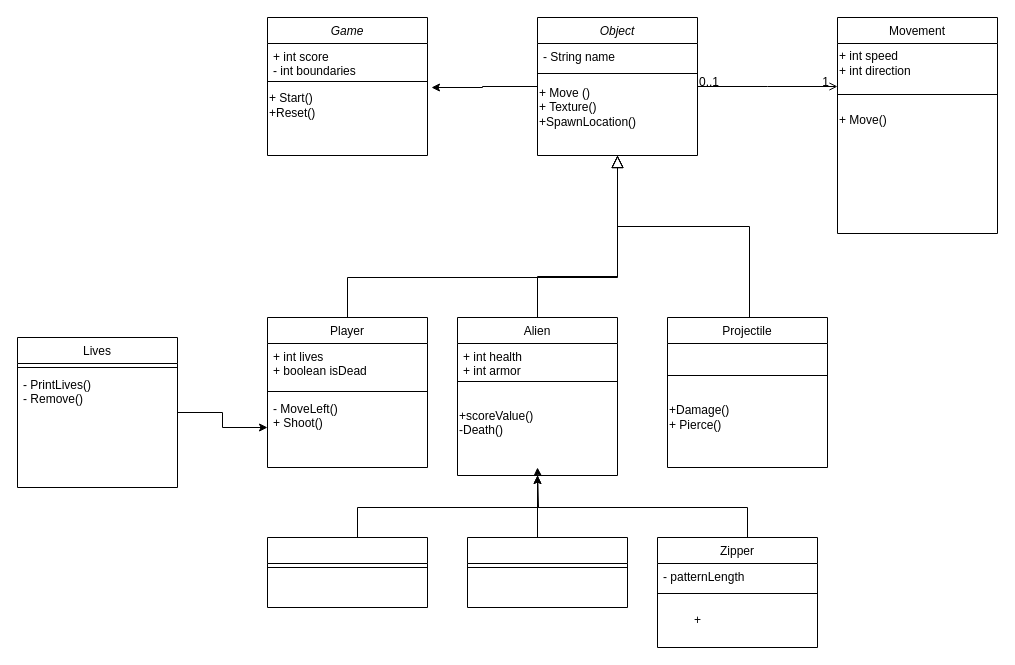
Some shapes in this 1015 by 665 pixel diagram are drawn without their labels. Each missing label, with the centre of its shape:
"Elite Grunt" belongs at (347,572).
"Grunt" belongs at (547,572).
